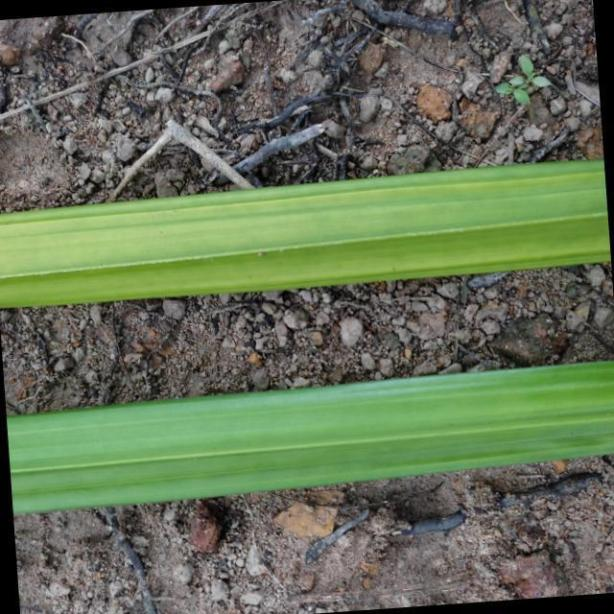nitrogen: (0, 158, 614, 312), (11, 360, 614, 516)
